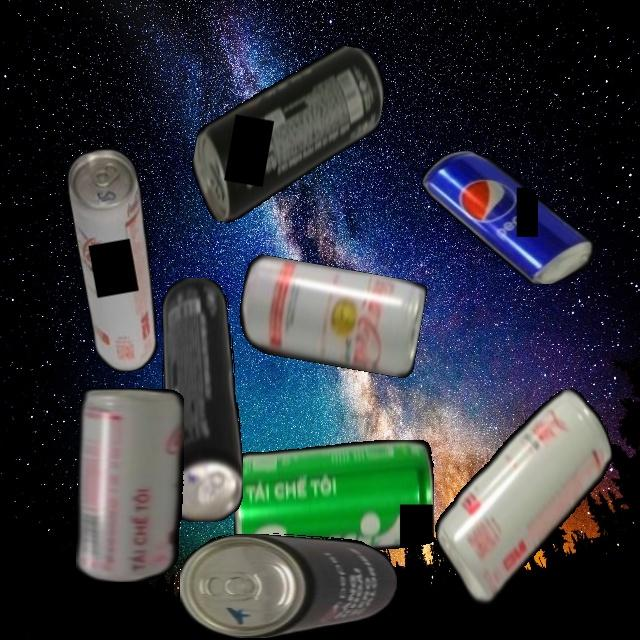debris: (416, 384, 634, 611), (184, 24, 391, 245), (62, 143, 171, 376), (233, 253, 428, 379), (233, 439, 434, 559), (422, 150, 594, 284), (180, 532, 397, 638), (76, 387, 184, 582), (161, 277, 243, 522)
